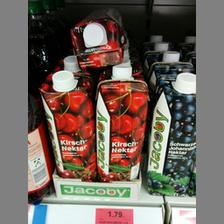Saft: (39, 70, 95, 180), (96, 65, 148, 181), (146, 65, 194, 178), (70, 4, 124, 70)
